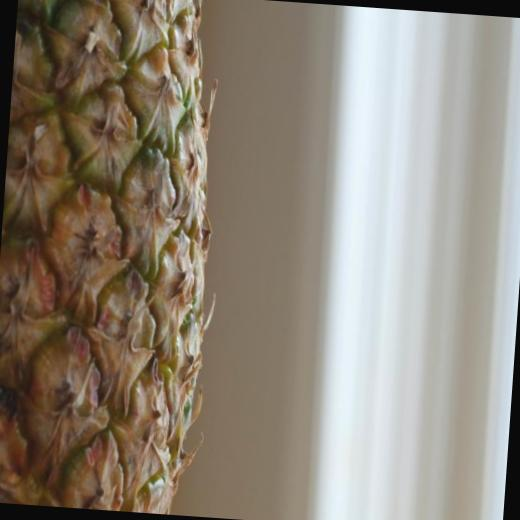Mango: (0, 0, 237, 515)
